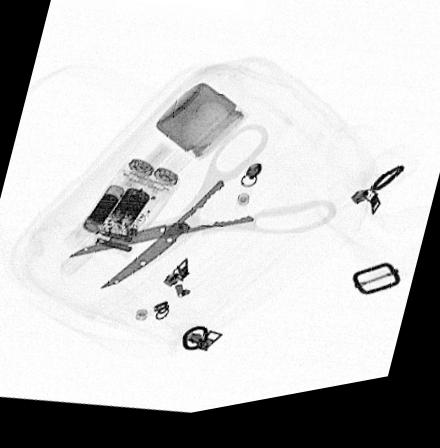Scissors: (67, 131, 338, 294)
